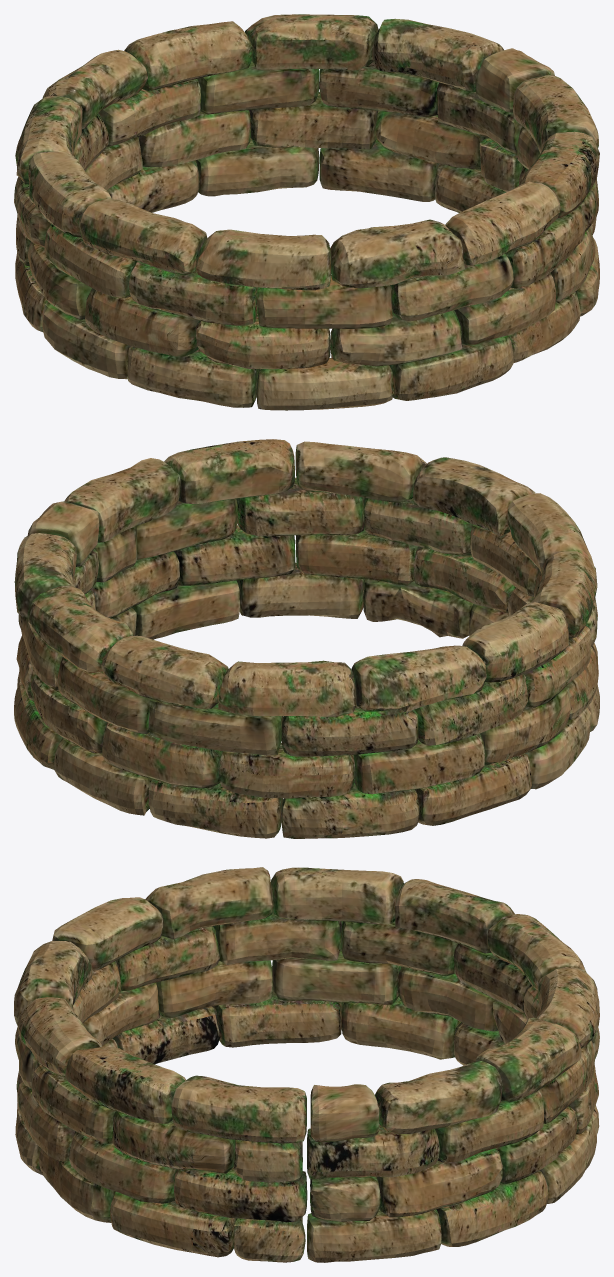
File: pozo_opt.glb
3 views of the same model, one above another, from view 1: azimuth 30°, elevation 25°; view 2: azimuth 150°, elevation 25°; view 3: azimuth 270°, elevation 25° (orthographic).
Parts seen in each view (by area): view 1: Prop_Stonewell_01; view 2: Prop_Stonewell_01; view 3: Prop_Stonewell_01.
Boxes of the visible parts, x1,y1,x2,y2 form: Prop_Stonewell_01: [14, 14, 599, 410]; Prop_Stonewell_01: [14, 439, 599, 838]; Prop_Stonewell_01: [14, 867, 599, 1262].
Bounding box in the file's own units: 3.24 × 1 × 3.25.
Materials: 1 (1 with a texture image).
